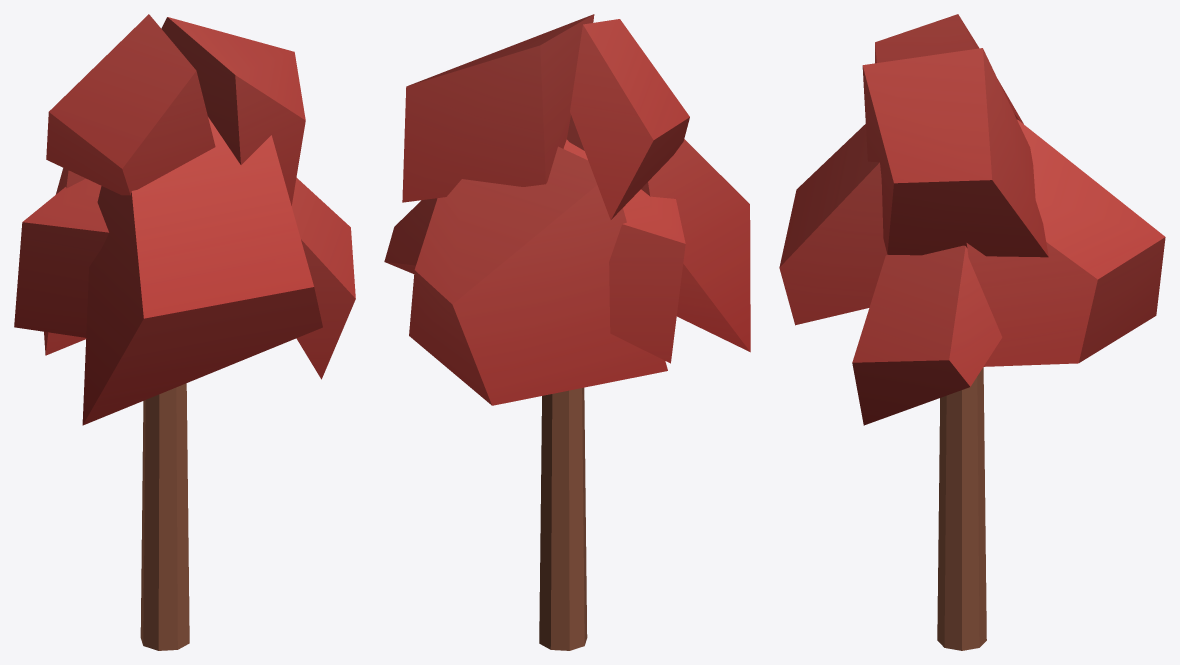
The model's file is Tree_41_gradient_red.fbx.
3 renders of one model, left to right at view 1: azimuth 30°, elevation 25°; view 2: azimuth 150°, elevation 25°; view 3: azimuth 270°, elevation 25°, orthographic. The views are drawn at different scales.
Parts seen in each view (by area): view 1: Tree_41_gradient_red; view 2: Tree_41_gradient_red; view 3: Tree_41_gradient_red.
Boxes of the visible parts, bbox=[...] form: Tree_41_gradient_red: bbox=[14, 14, 355, 650]; Tree_41_gradient_red: bbox=[384, 14, 750, 650]; Tree_41_gradient_red: bbox=[779, 14, 1165, 650].
Bounding box in the file's own units: 120 × 229 × 130.
